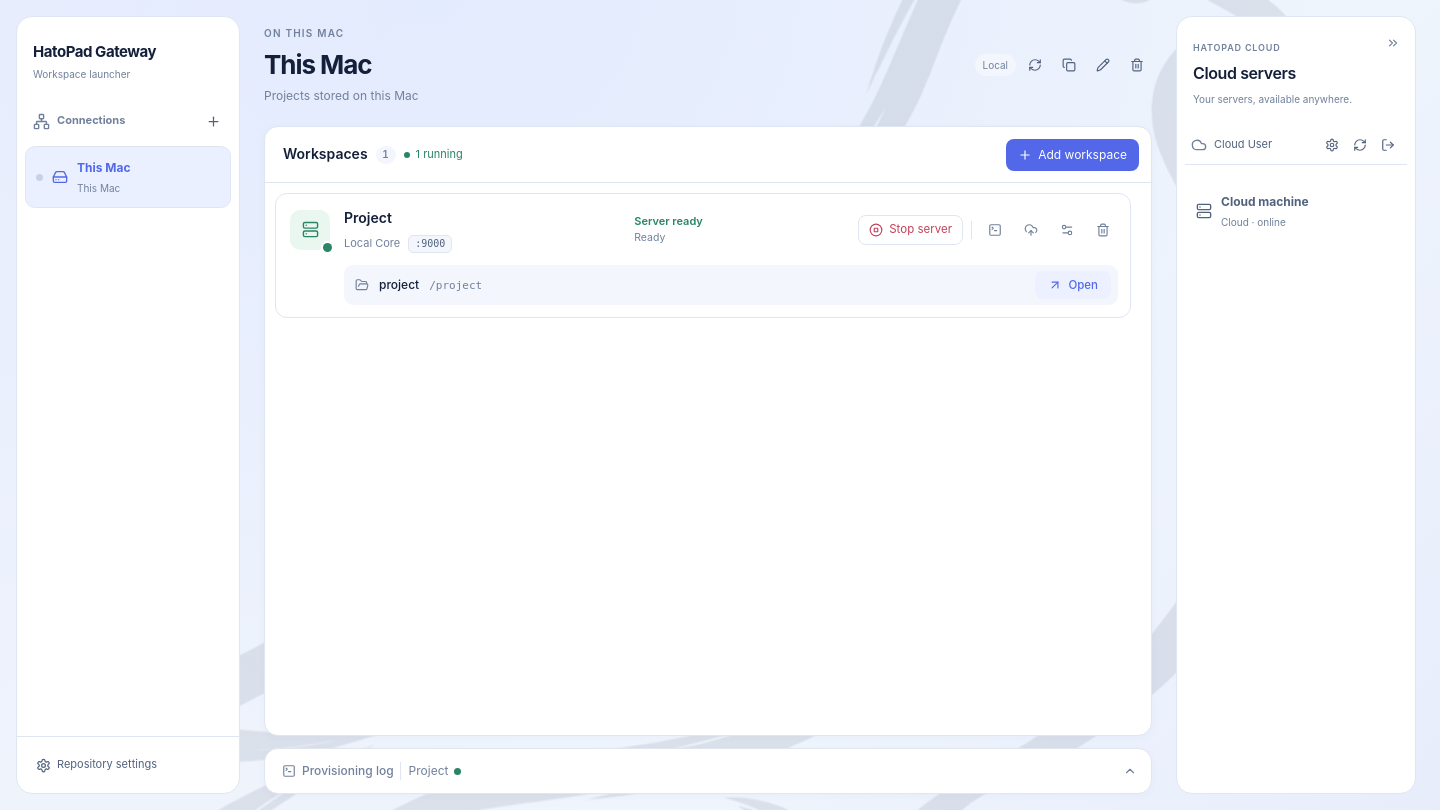
it: Gateway cloud › updates a cloud Core to the selected Gateway bundle using the compact action
Click the button "Cloud machine Cloud · online" at [1296, 211], box [1185,180,1407,242]
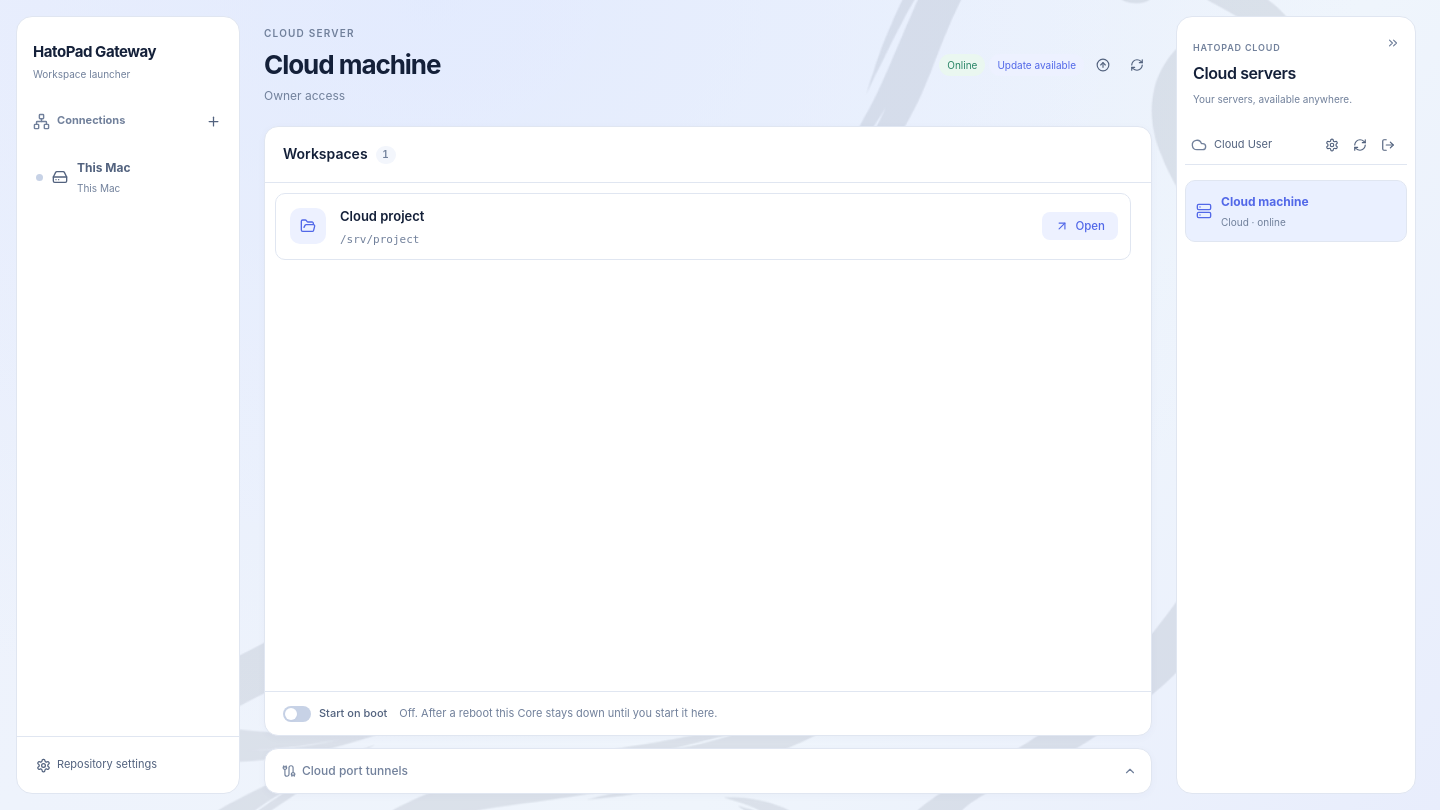
Click the button named "Update cloud Core" at [1103, 65], box [1088,50,1118,80]
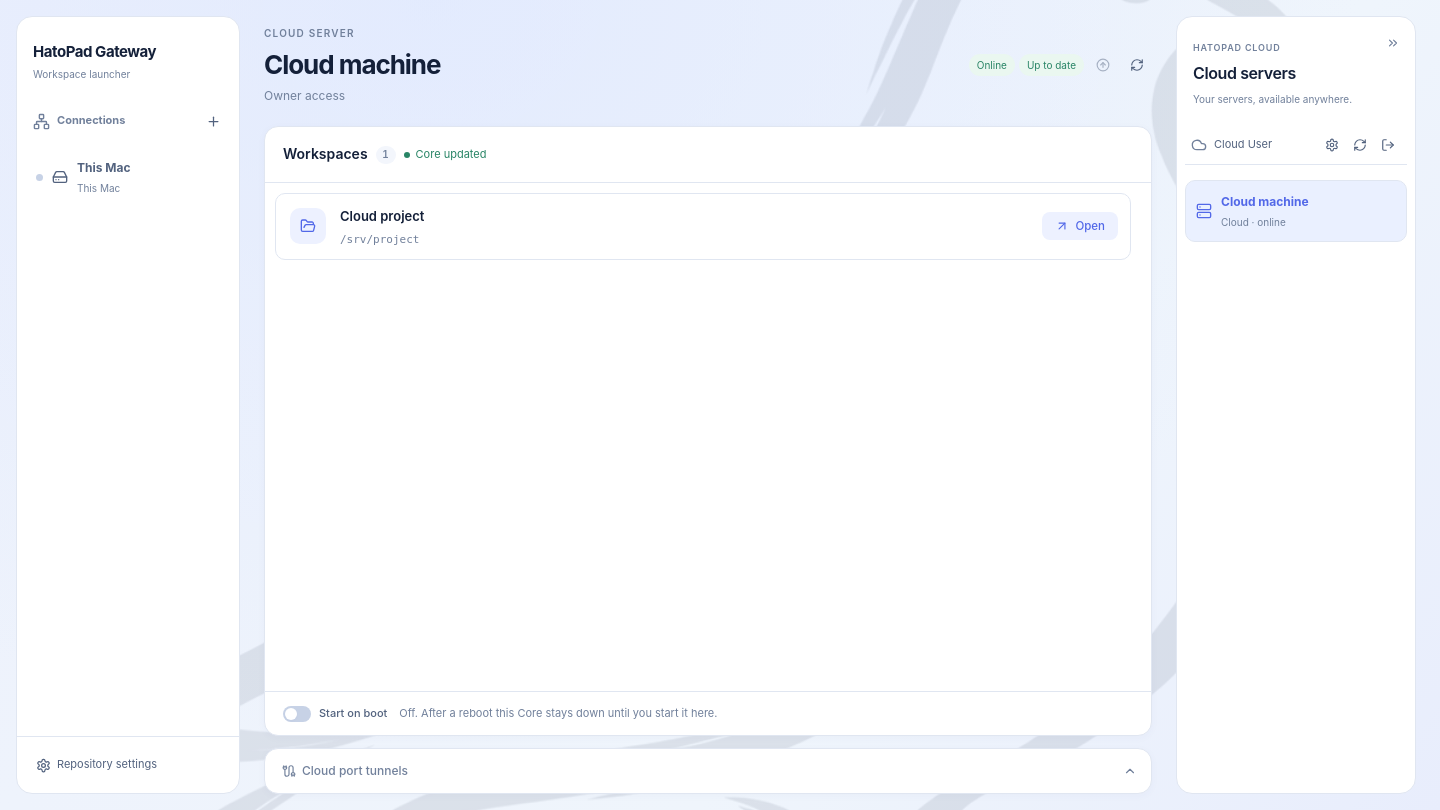
Expected: the button named "Update cloud Core" is disabled, [1088,50,1118,80]
